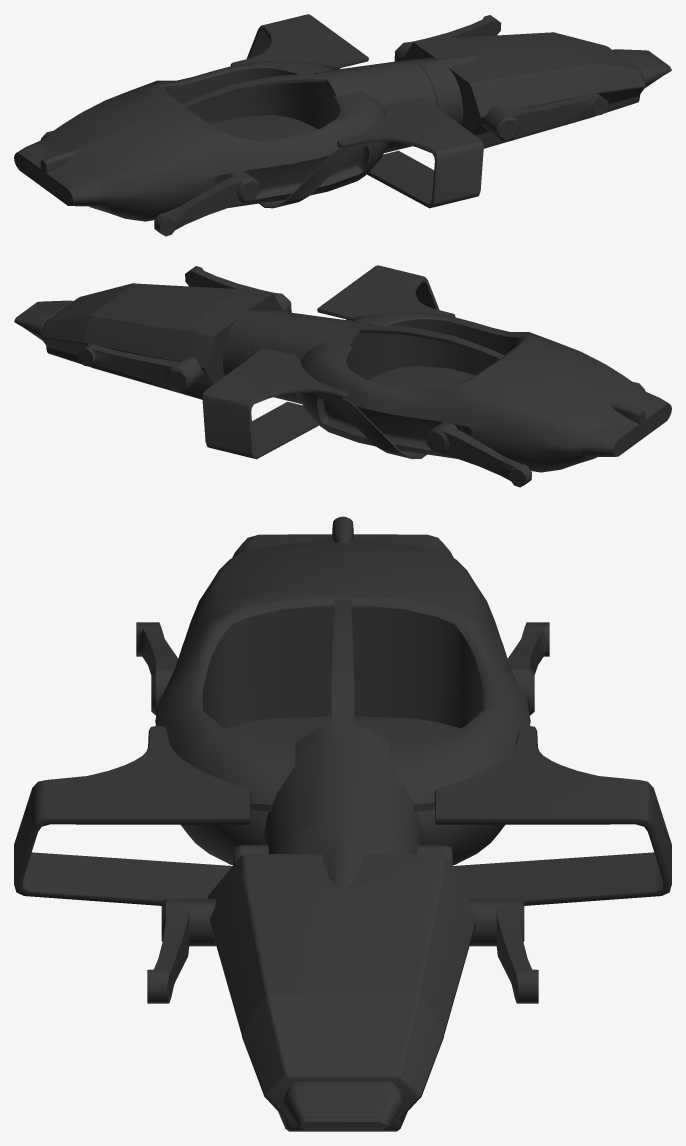
The model's file is f1_car_tron.dae.
3 renders of one model, top to bottom at view 1: azimuth 30°, elevation 25°; view 2: azimuth 150°, elevation 25°; view 3: azimuth 270°, elevation 25°, orthographic. The views are drawn at different scales.
Visible parts, largest first — view 1: Tron_Car; view 2: Tron_Car; view 3: Tron_Car.
Part boxes in pixels (box(x1,y1,x2,y2)): Tron_Car: box(14, 14, 671, 236); Tron_Car: box(14, 265, 671, 487); Tron_Car: box(14, 516, 671, 1131).
Bounding box in the file's own units: 0.2761 × 0.147 × 0.0423.
Materials: 1 (1 with a texture image).
